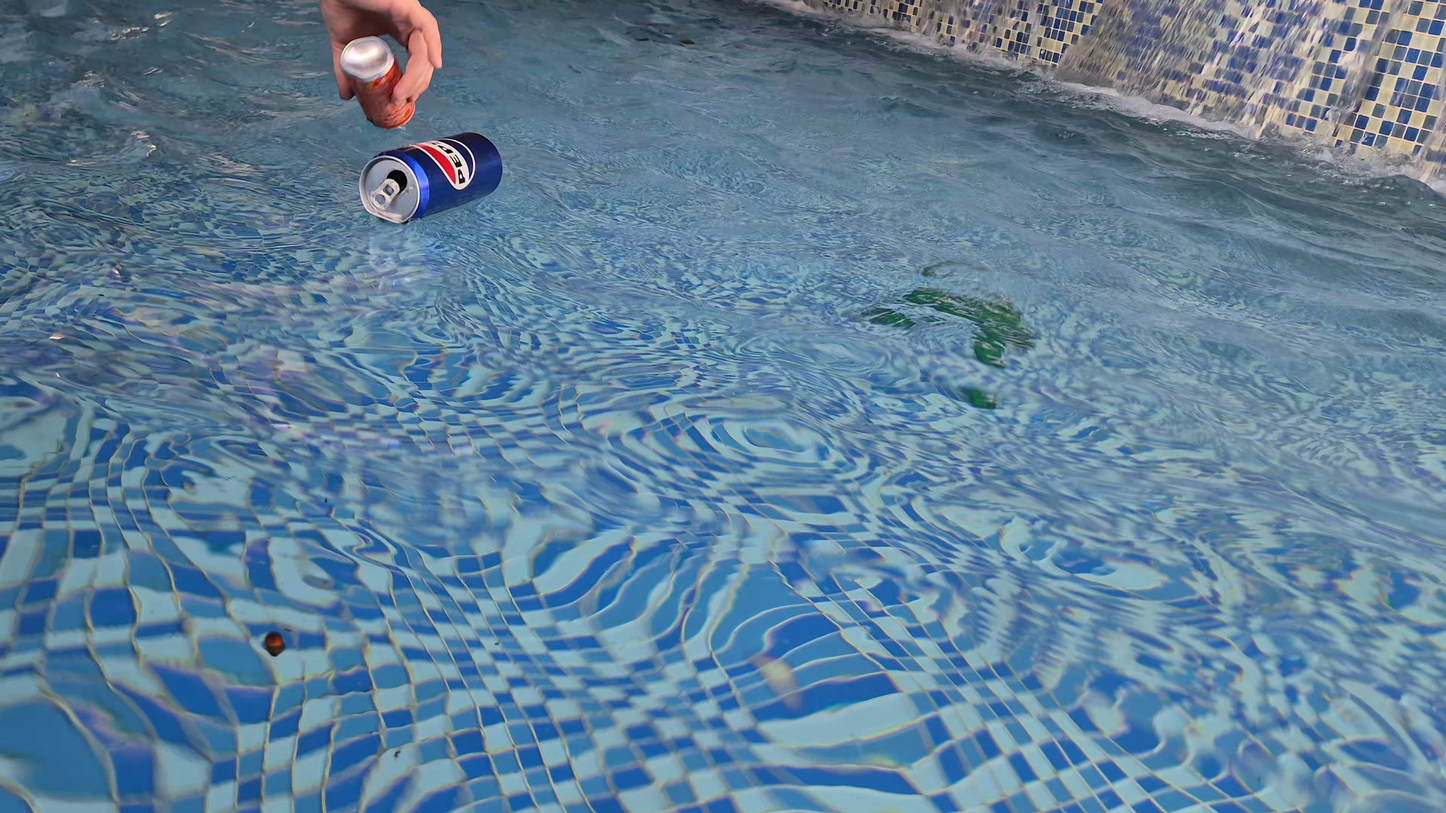debris: (351, 121, 507, 227), (339, 27, 422, 132)
